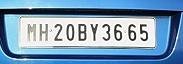0: (65, 22, 74, 40)
2: (52, 22, 63, 41)
3: (100, 22, 110, 40)
5: (138, 22, 149, 41)
6: (112, 21, 123, 41), (127, 22, 136, 40)
B: (76, 22, 86, 41)
H: (38, 22, 49, 42)
M: (26, 22, 37, 42)
Y: (88, 22, 99, 41)
